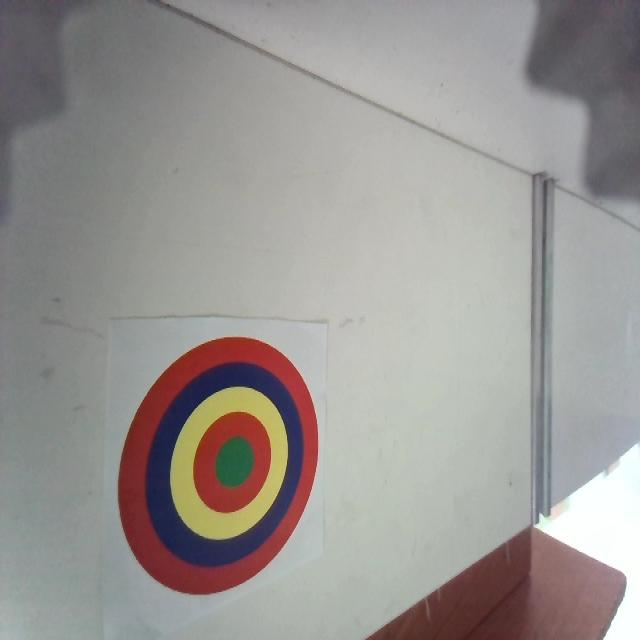cogn: (118, 332, 320, 598)
